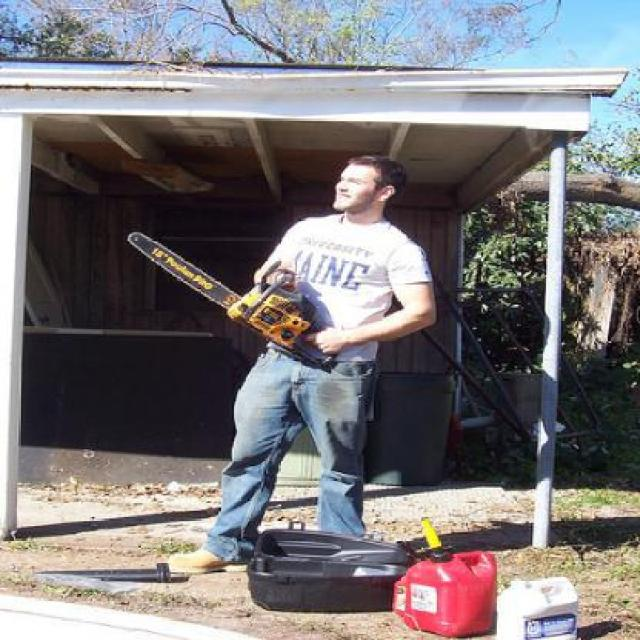Chainsaw: (124, 232, 344, 374)
